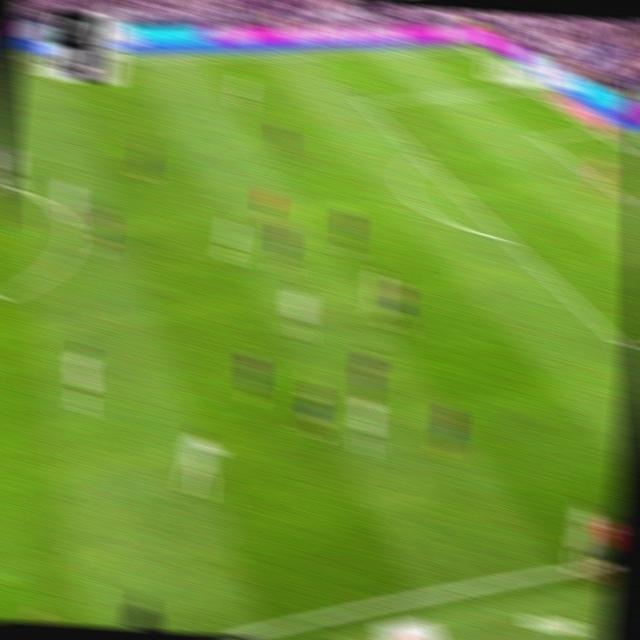bigarea_bottom_inner: (612, 331, 635, 358)
bigarea_top_inner: (354, 92, 373, 110)
bottom_arc_area_intersection: (496, 226, 517, 248)
corner: (455, 40, 475, 53)
smallarea_top_inner: (529, 129, 546, 144)
top_arc_area_intersection: (410, 146, 429, 164)
